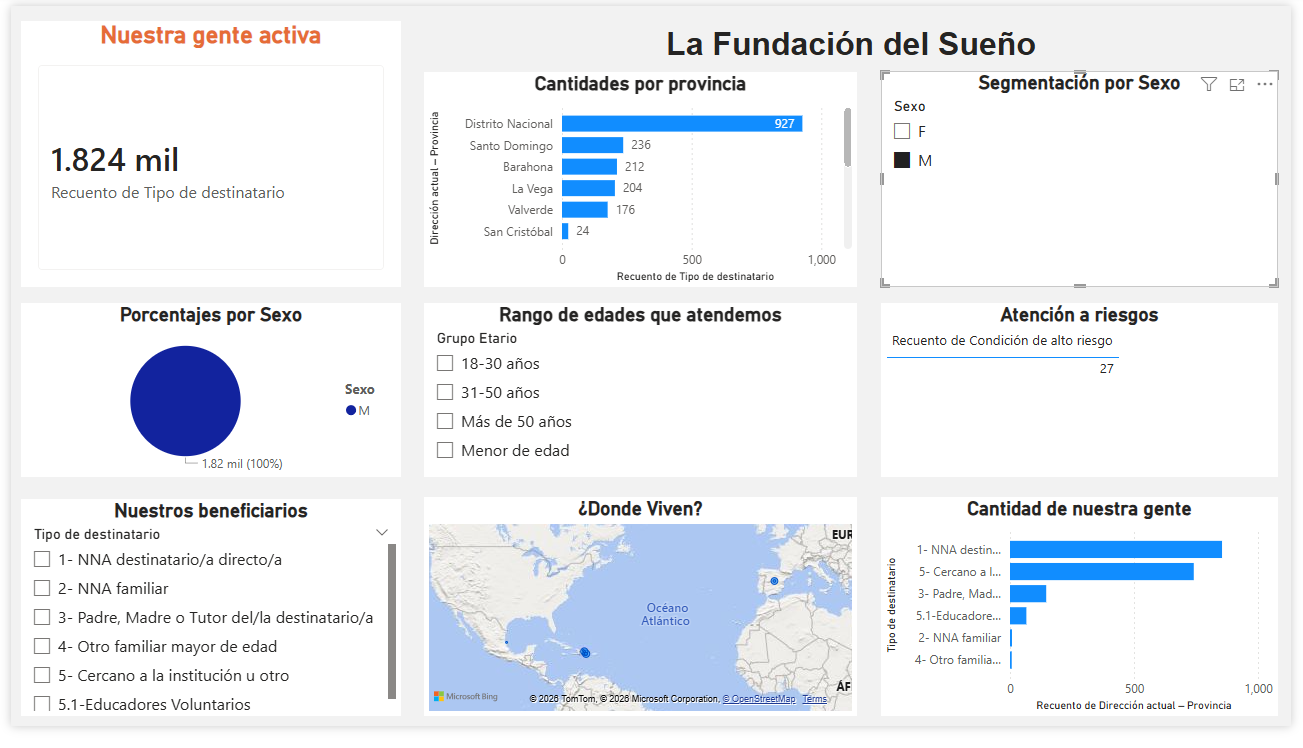

Layout of this report page (visuals, bound fields, positions):
{"tool":"powerbi","page":{"name":"Página 1","canvas":[1280,720],"ordinal":0},"visuals":[{"type":"cardVisual","title":"Nuestra gente activa","fields":{"Data":["CountNonNull(Hoja1.Tipo de destinatario)"]},"box":[10.4,15,379.3,265.9],"z":0},{"type":"clusteredBarChart","title":"Cantidad de nuestra gente","fields":{"Y":["CountNonNull(Hoja1.Dirección actual – Provincia)"],"Category":["Hoja1.Tipo de destinatario"]},"box":[869.5,491.4,397.8,218.5],"z":1000},{"type":"pieChart","title":"Porcentajes por Sexo","fields":{"Category":["Hoja1.Sexo"],"Y":["CountNonNull(Hoja1.Tipo de destinatario)"]},"box":[10.4,297.2,379.3,173.4],"z":2000},{"type":"tableEx","title":"Atención a riesgos","fields":{"Values":["Count(Hoja1.Condición de alto riesgo)"]},"box":[869.5,297.2,397.8,173.4],"z":3000},{"type":"map","title":"¿Donde Viven?","fields":{"Size":["CountNonNull(Hoja1.Edad)"],"Category":["Hoja1.Dirección actual – Provincia"]},"box":[412.8,491.4,433.6,218.5],"z":4000},{"type":"slicer","title":"Segmentación por Sexo","fields":{"Values":["Hoja1.Sexo"]},"box":[869.5,64.8,397.8,216.2],"z":5000},{"type":"slicer","title":"Rango de edades que atendemos","fields":{"Values":["Hoja1.Grupo Etario"]},"box":[412.8,297.2,433.6,173.4],"z":6000},{"type":"slicer","title":"Nuestros beneficiarios","fields":{"Values":["Hoja1.Tipo de destinatario"]},"box":[10.4,492.6,379.3,217.4],"z":7000},{"type":"clusteredBarChart","title":"Cantidades por provincia","fields":{"Category":["Hoja1.Dirección actual – Provincia"],"Y":["CountNonNull(Hoja1.Tipo de destinatario)"]},"box":[412.8,65.9,433.6,215.1],"z":8000},{"type":"textbox","box":[412.8,15,854.5,49.7],"z":8001},{"type":"actionButton","box":[0,0,100,40],"z":8002}]}

Visuals, with their boxes in screenshot pixels (x1, y1, x2, y2), scaled from the page's 1280x720 canvas onto the 1303x748 screenshot:
"Nuestra gente activa" cardVisual: pyautogui.locateOnScreen(11, 16, 397, 292)
"Cantidad de nuestra gente" clusteredBarChart: pyautogui.locateOnScreen(885, 511, 1290, 738)
"Porcentajes por Sexo" pieChart: pyautogui.locateOnScreen(11, 309, 397, 489)
"Atención a riesgos" tableEx: pyautogui.locateOnScreen(885, 309, 1290, 489)
"¿Donde Viven?" map: pyautogui.locateOnScreen(420, 511, 862, 738)
"Segmentación por Sexo" slicer: pyautogui.locateOnScreen(885, 67, 1290, 292)
"Rango de edades que atendemos" slicer: pyautogui.locateOnScreen(420, 309, 862, 489)
"Nuestros beneficiarios" slicer: pyautogui.locateOnScreen(11, 512, 397, 738)
"Cantidades por provincia" clusteredBarChart: pyautogui.locateOnScreen(420, 68, 862, 292)
textbox: pyautogui.locateOnScreen(420, 16, 1290, 67)
actionButton: pyautogui.locateOnScreen(0, 0, 102, 42)
